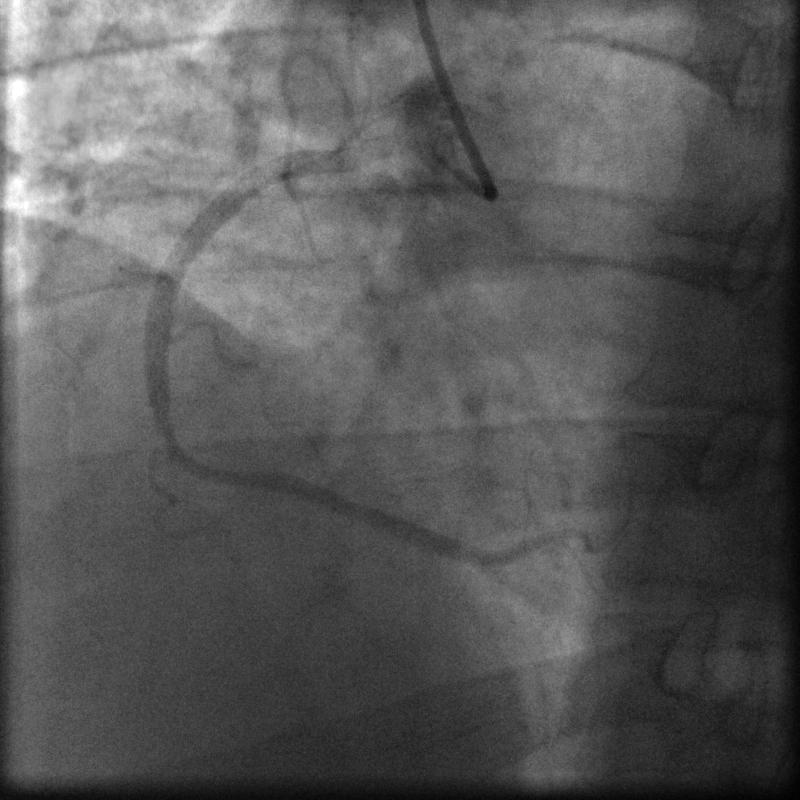Stenosis: (149, 394, 186, 454)
